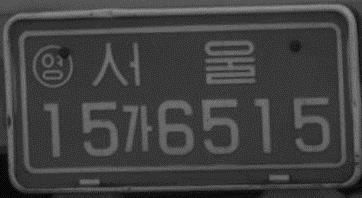1: (250, 94, 275, 156), (41, 99, 65, 159)
5: (199, 95, 241, 157), (290, 93, 332, 155), (79, 98, 120, 157)
6: (156, 97, 195, 155)
가: (121, 101, 154, 155)
서울_D: (90, 37, 258, 89)
영: (32, 41, 74, 90)
